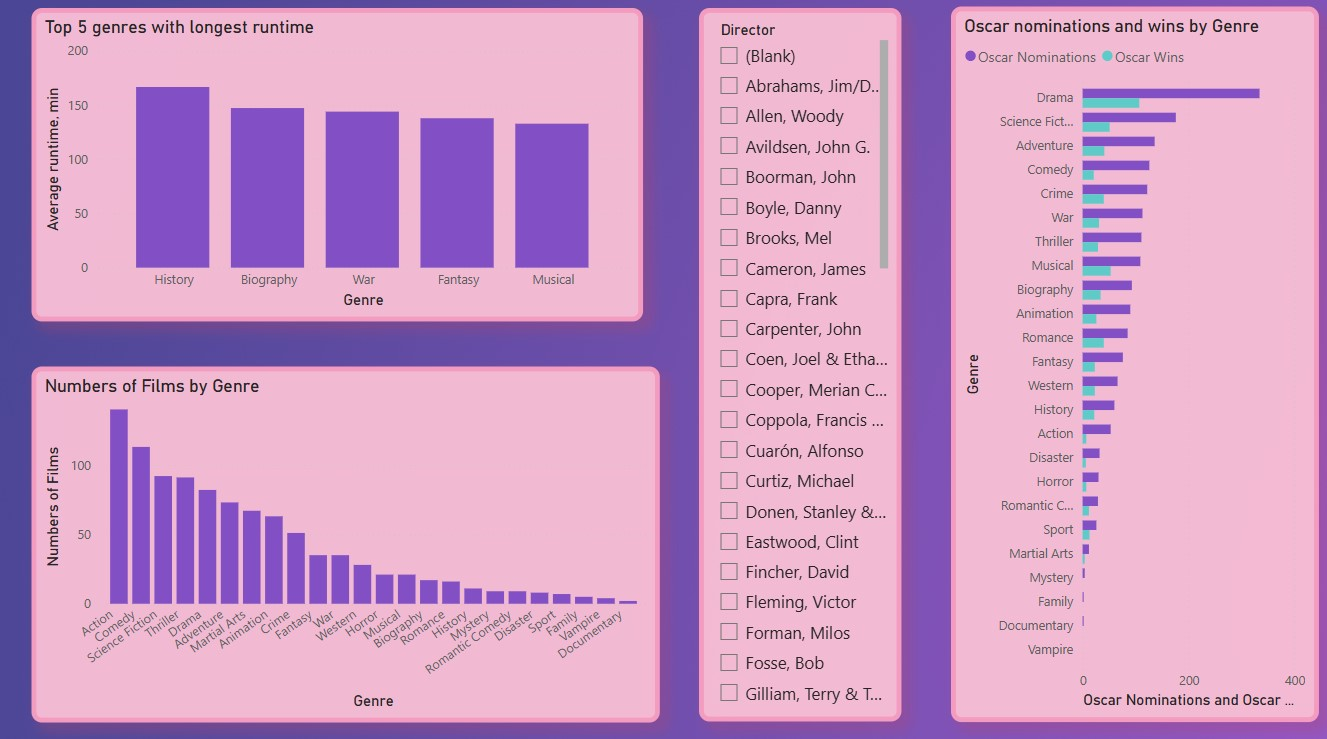

Layout of this report page (visuals, bound fields, positions):
{"tool":"powerbi","page":{"name":"Genres and Oscars","canvas":[1280,720],"ordinal":0},"visuals":[{"type":"columnChart","title":"Top 5 genres with longest runtime","fields":{"Category":["Genre.Genre"],"Y":["Avg(Films.RunTimeMinutes)"]},"box":[39,17.9,583.9,299.3],"z":0},{"type":"columnChart","fields":{"Category":["Genre.Genre"],"Y":["CountNonNull(Films.FilmID)"]},"box":[39,359.5,600.2,339.9],"z":1000},{"type":"clusteredBarChart","title":"Oscar nominations and wins by Genre","fields":{"Category":["Genre.Genre"],"Y":["Sum(Films.OscarNominations)","Sum(Films.OscarWins)"]},"box":[917.4,16.3,351.3,683.1],"z":2000},{"type":"slicer","fields":{"Values":["Directors.Director"]},"box":[676.6,17.9,193.6,681.5],"z":3000}]}

Visuals, with their boxes in screenshot pixels (x1, y1, x2, y2), scaled from the page's 1280x720 canvas onto the 1327x739 screenshot:
"Top 5 genres with longest runtime" columnChart: bbox(40, 18, 646, 326)
columnChart - Genre.Genre x CountNonNull(Films.FilmID): bbox(40, 369, 663, 718)
"Oscar nominations and wins by Genre" clusteredBarChart: bbox(951, 17, 1315, 718)
slicer - Directors.Director: bbox(701, 18, 902, 718)
